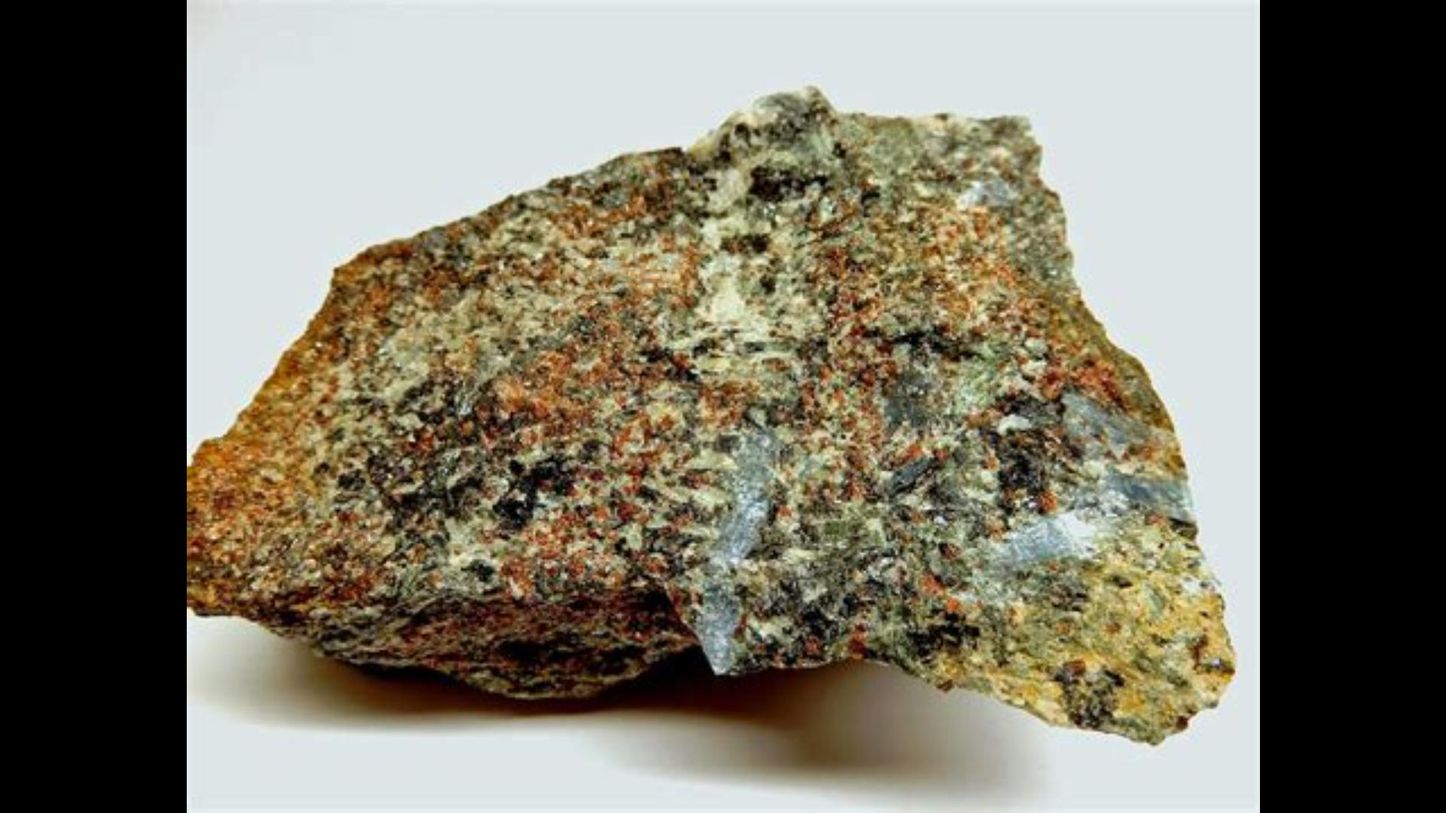rock: (186, 93, 1230, 741)
